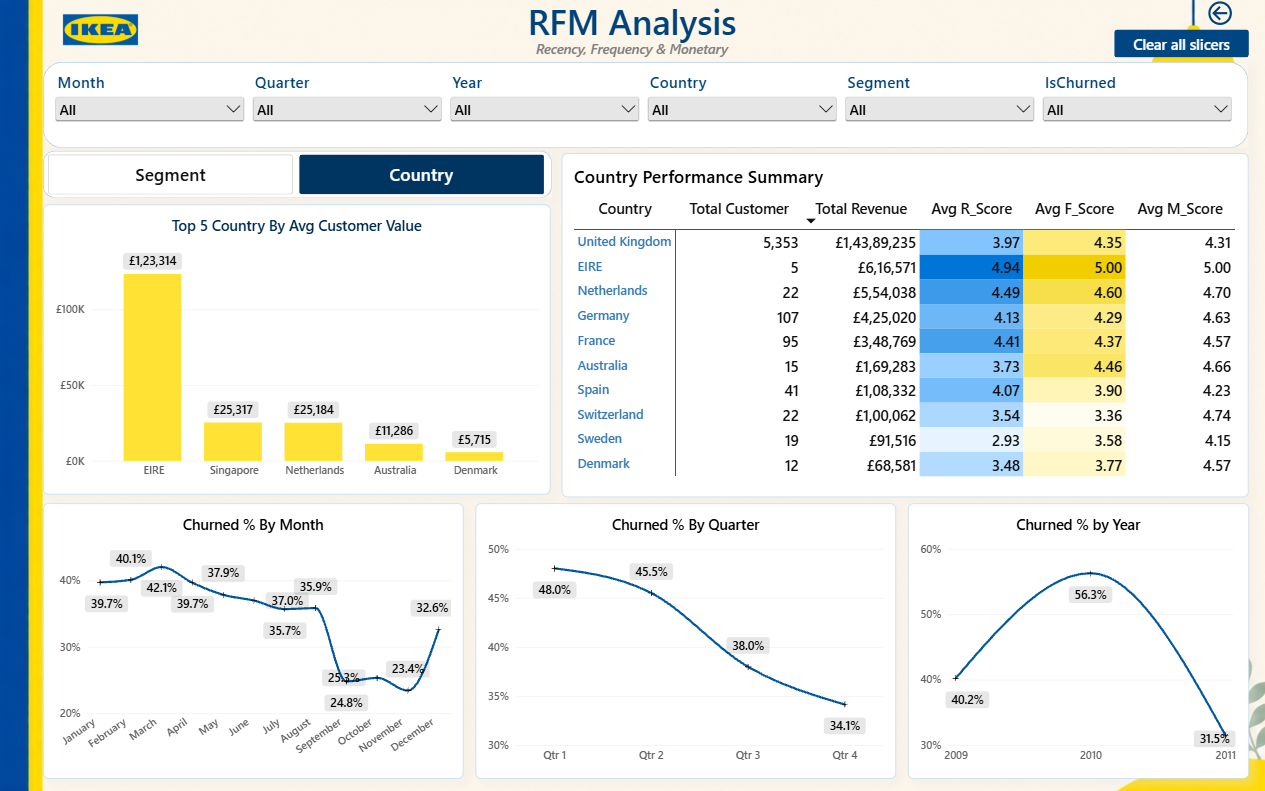

What the dashboard file says about the page in this screenshot:
{"tool":"powerbi","page":{"name":"RFM Analysis","canvas":[1750,1100],"ordinal":2},"visuals":[{"type":"shape","box":[61.9,90,1662.5,118.8],"z":0},{"type":"pivotTable","title":"Country Performance Summary","fields":{"Rows":["Sheet1.Country"],"Values":["Sheet1.Total Customer","Sheet1.Total Revenue","Avg(Sheet1.R_Score)","Avg(Sheet1.F_Score)","Avg(Sheet1.M_Score)"]},"box":[776.4,216.4,947,474],"z":0,"group":"g1"},{"type":"slicer","fields":{"Values":["Sheet1.InvoiceDate.Variation.Date Hierarchy.Month"]},"box":[74.4,101.7,270.4,96.1],"z":1000},{"type":"clusteredColumnChart","title":"Top 5 Country By Avg Customer Value","fields":{"Category":["Sheet1.Country"],"Y":["Sheet1.Avg Customer Value"]},"box":[61.7,287.8,700,400],"z":1000,"group":"g1"},{"type":"slicer","fields":{"Values":["Sheet1.InvoiceDate.Variation.Date Hierarchy.Quarter"]},"box":[346.8,101.7,270.4,96.1],"z":2000},{"type":"lineChart","title":"Churned % By Month","fields":{"Category":["Sheet1.InvoiceDate.Variation.Date Hierarchy.Month"],"Y":["Sheet1.Churned %"]},"box":[61.5,698,580,380],"z":3000},{"type":"slicer","fields":{"Values":["Sheet1.InvoiceDate.Variation.Date Hierarchy.Year"]},"box":[619.3,101.7,270.4,96.1],"z":4000},{"type":"lineChart","title":"Churned % By Quarter","fields":{"Category":["Sheet1.InvoiceDate.Variation.Date Hierarchy.Quarter"],"Y":["Sheet1.Churned %"]},"box":[659,698,580,380],"z":5000},{"type":"slicer","fields":{"Values":["Sheet1.Country"]},"box":[891.7,101.7,270.4,96.1],"z":6000},{"type":"lineChart","fields":{"Category":["Sheet1.InvoiceDate.Variation.Date Hierarchy.Year"],"Y":["Sheet1.Churned %"]},"box":[1256,698,470,380],"z":7000},{"type":"slicer","fields":{"Values":["Sheet1.Segment"]},"box":[1164.1,101.9,270.4,96.1],"z":8000},{"type":"shape","box":[61.5,212.5,702,65],"z":9000},{"type":"slicer","fields":{"Values":["Sheet1.IsChurned"]},"box":[1436.5,101.9,270.4,96.1],"z":10000},{"type":"bookmarkNavigator","box":[69.2,217.5,685,55],"z":11000},{"type":"image","box":[42,0,200,90],"z":12000},{"type":"textbox","box":[585,0,580,90],"z":13000},{"type":"textbox","box":[585,58.3,580,31.7],"z":14000},{"type":"actionButton","box":[1645.7,0,78.6,44.3],"z":15000},{"type":"actionButton","box":[1540,44.3,185.7,38.6],"z":16000},{"type":"group","id":"g1","title":"Country","box":[61.7,216.4,1661.7,474],"z":17000}]}

Visuals, with their boxes in screenshot pixels (x1, y1, x2, y2), scaled from the page's 1750x1100 canvas onto the 1265x791 screenshot:
shape: x1=45 y1=65 x2=1246 y2=150
"Country Performance Summary" pivotTable: x1=561 y1=156 x2=1246 y2=496
slicer - Sheet1.InvoiceDate.Variation.Date Hierarchy.Month: x1=54 y1=73 x2=249 y2=142
"Top 5 Country By Avg Customer Value" clusteredColumnChart: x1=45 y1=207 x2=551 y2=495
slicer - Sheet1.InvoiceDate.Variation.Date Hierarchy.Quarter: x1=251 y1=73 x2=446 y2=142
"Churned % By Month" lineChart: x1=44 y1=502 x2=464 y2=775
slicer - Sheet1.InvoiceDate.Variation.Date Hierarchy.Year: x1=448 y1=73 x2=643 y2=142
"Churned % By Quarter" lineChart: x1=476 y1=502 x2=896 y2=775
slicer - Sheet1.Country: x1=645 y1=73 x2=840 y2=142
lineChart - Sheet1.InvoiceDate.Variation.Date Hierarchy.Year x Sheet1.Churned %: x1=908 y1=502 x2=1248 y2=775
slicer - Sheet1.Segment: x1=841 y1=73 x2=1037 y2=142
shape: x1=44 y1=153 x2=552 y2=200
slicer - Sheet1.IsChurned: x1=1038 y1=73 x2=1234 y2=142
bookmarkNavigator: x1=50 y1=156 x2=545 y2=196
image: x1=30 y1=0 x2=175 y2=65
textbox: x1=423 y1=0 x2=842 y2=65
textbox: x1=423 y1=42 x2=842 y2=65
actionButton: x1=1190 y1=0 x2=1246 y2=32
actionButton: x1=1113 y1=32 x2=1247 y2=60
"Country" group: x1=45 y1=156 x2=1246 y2=496
